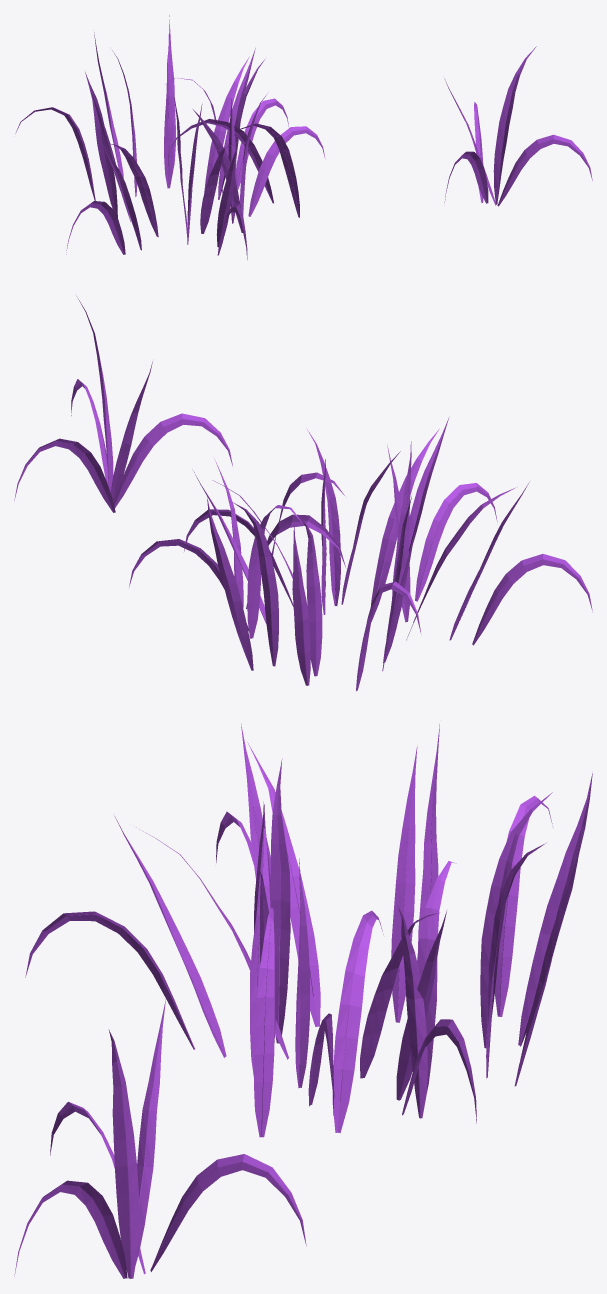
The model's file is SmallGrass.fbx.
The picture shows the model from 3 angles, top to bottom: view 1: azimuth 30°, elevation 25°; view 2: azimuth 150°, elevation 25°; view 3: azimuth 270°, elevation 25°; orthographic projection. The views are drawn at different scales.
Visible parts, largest first — view 1: Grass_001.001, Grass_001.002; view 2: Grass_001.001, Grass_001.002; view 3: Grass_001.001, Grass_001.002.
Boxes of the visible parts, x1=… form: Grass_001.001: x1=15, y1=15, x2=325, y2=259; Grass_001.002: x1=444, y1=46, x2=592, y2=206; Grass_001.001: x1=129, y1=417, x2=592, y2=690; Grass_001.002: x1=14, y1=297, x2=232, y2=512; Grass_001.001: x1=25, y1=723, x2=592, y2=1137; Grass_001.002: x1=14, y1=999, x2=306, y2=1278.
Bounding box in the file's own units: 169 × 53.66 × 100.
